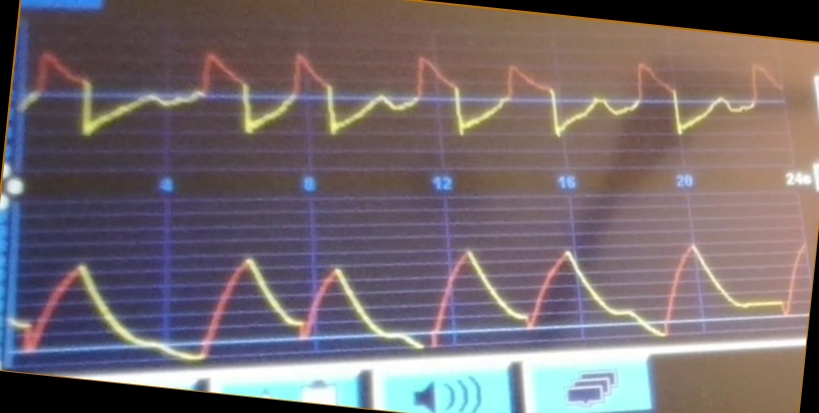Ineffective_effort Flow: (24, 42, 783, 157)
Ineffective_effort Volume: (16, 234, 804, 364)
